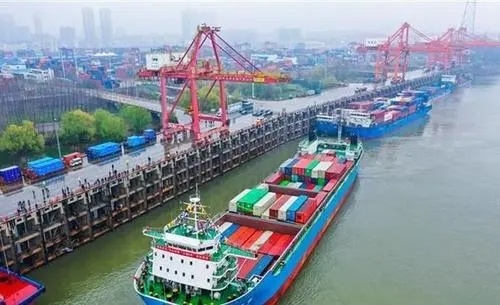Cargoship: (130, 123, 365, 303), (309, 87, 437, 134)
